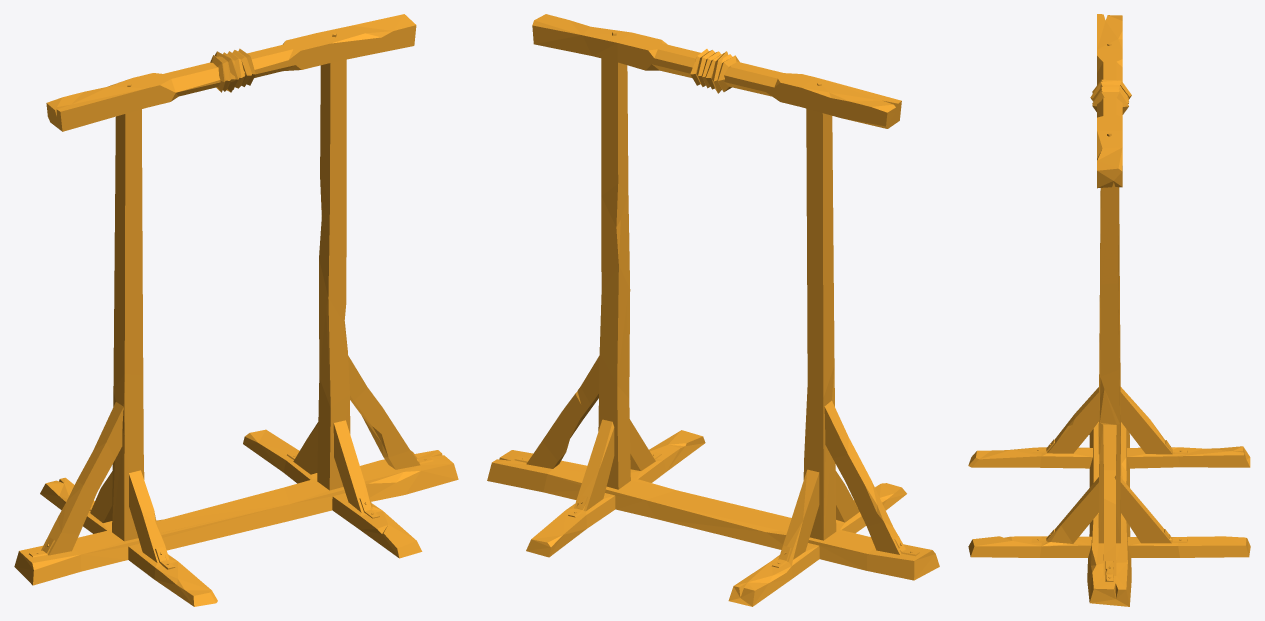
The model's file is SM_Holder_Hanging.fbx.
3 renders of one model, left to right at view 1: azimuth 30°, elevation 25°; view 2: azimuth 150°, elevation 25°; view 3: azimuth 270°, elevation 25°, orthographic. The views are drawn at different scales.
Visible parts, largest first — view 1: holder-hanging; view 2: holder-hanging; view 3: holder-hanging.
Part boxes in pixels (x1,y1,x2,y2): holder-hanging: (14,14,458,606); holder-hanging: (487,14,939,606); holder-hanging: (968,14,1250,606).
Bounding box in the file's own units: 4.33 × 4.56 × 2.73.
